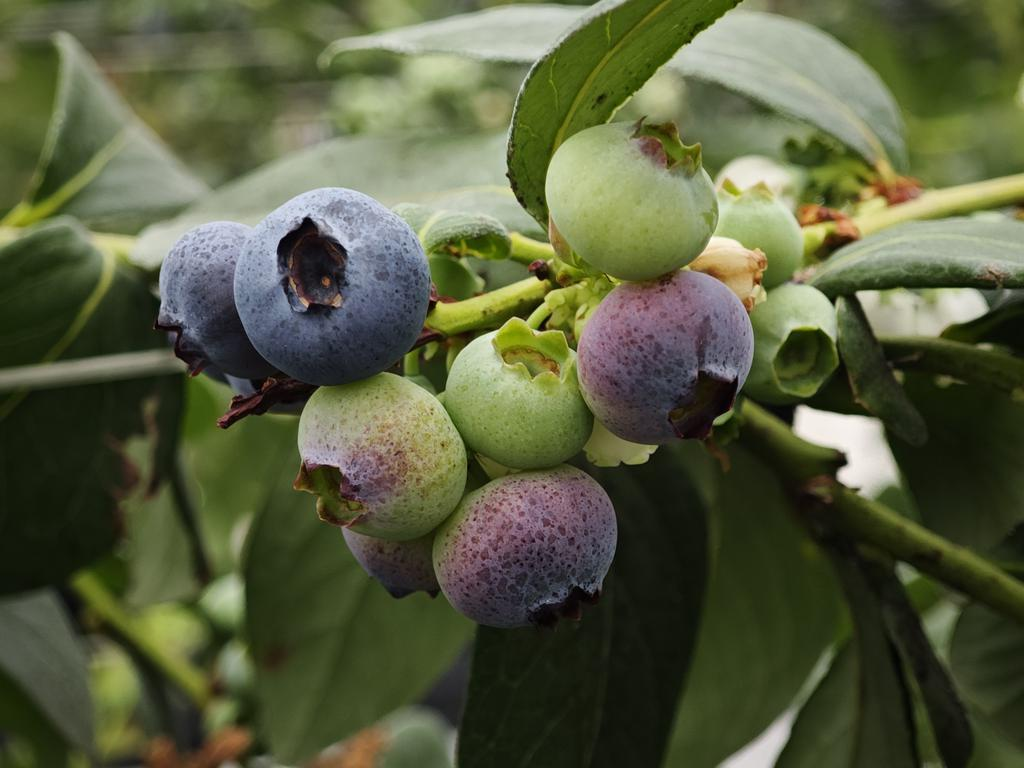RipeBlueBerry: (236, 186, 427, 384)
Semi-RipeBlueBerry: (579, 273, 754, 438), (444, 477, 628, 626), (298, 377, 464, 532)
UnripeBlueBerry: (547, 123, 722, 280), (449, 319, 591, 468)
